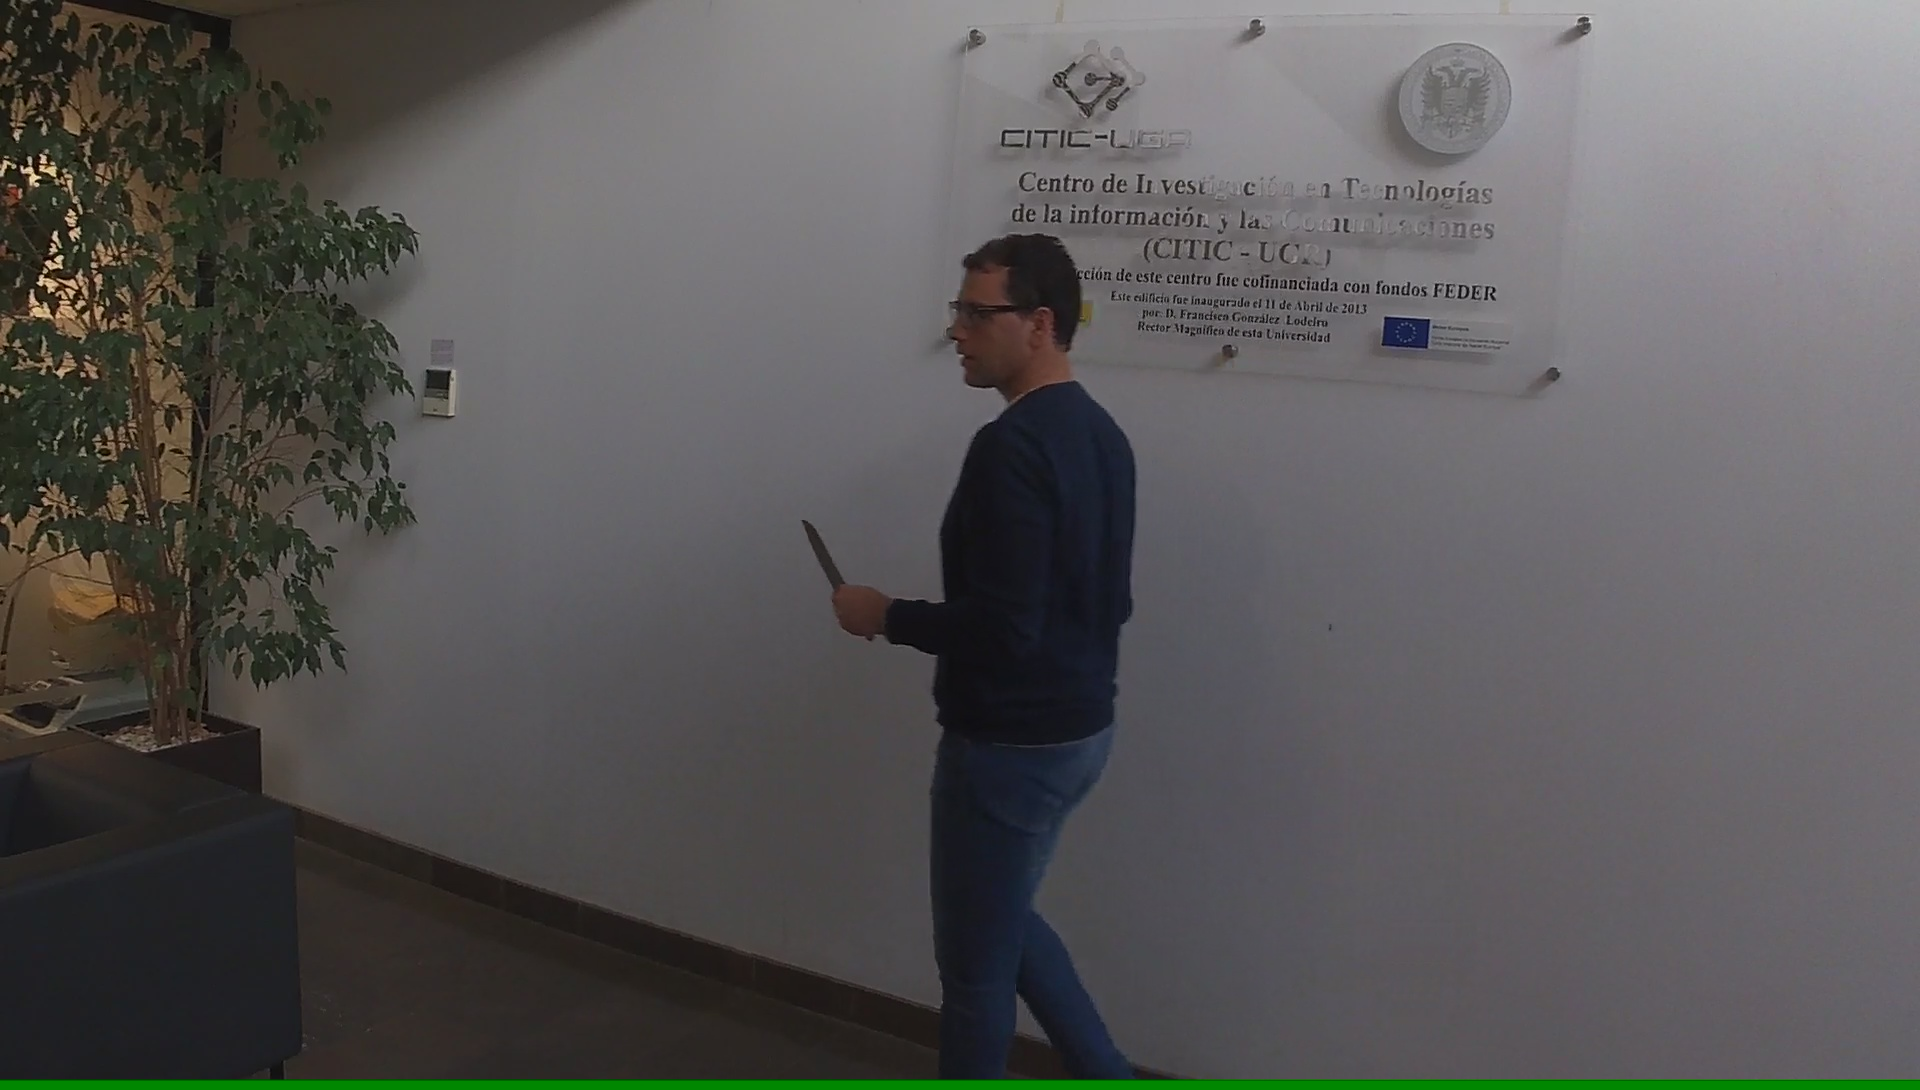knife: (796, 513, 878, 647)
